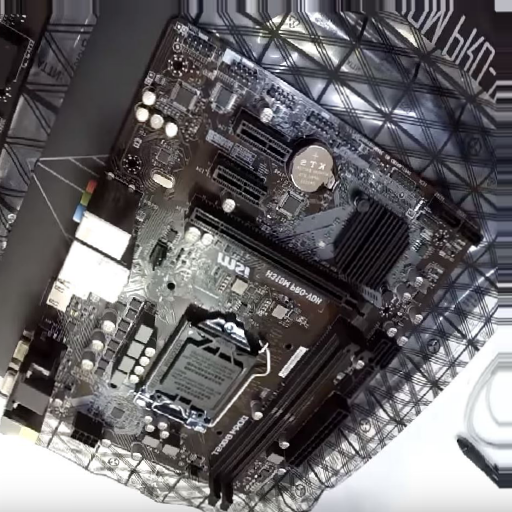CPU: (134, 316, 258, 434)
GPU: (186, 201, 379, 329)
MOTHERBOARD: (9, 17, 486, 499)
RAM: (211, 320, 365, 508)
